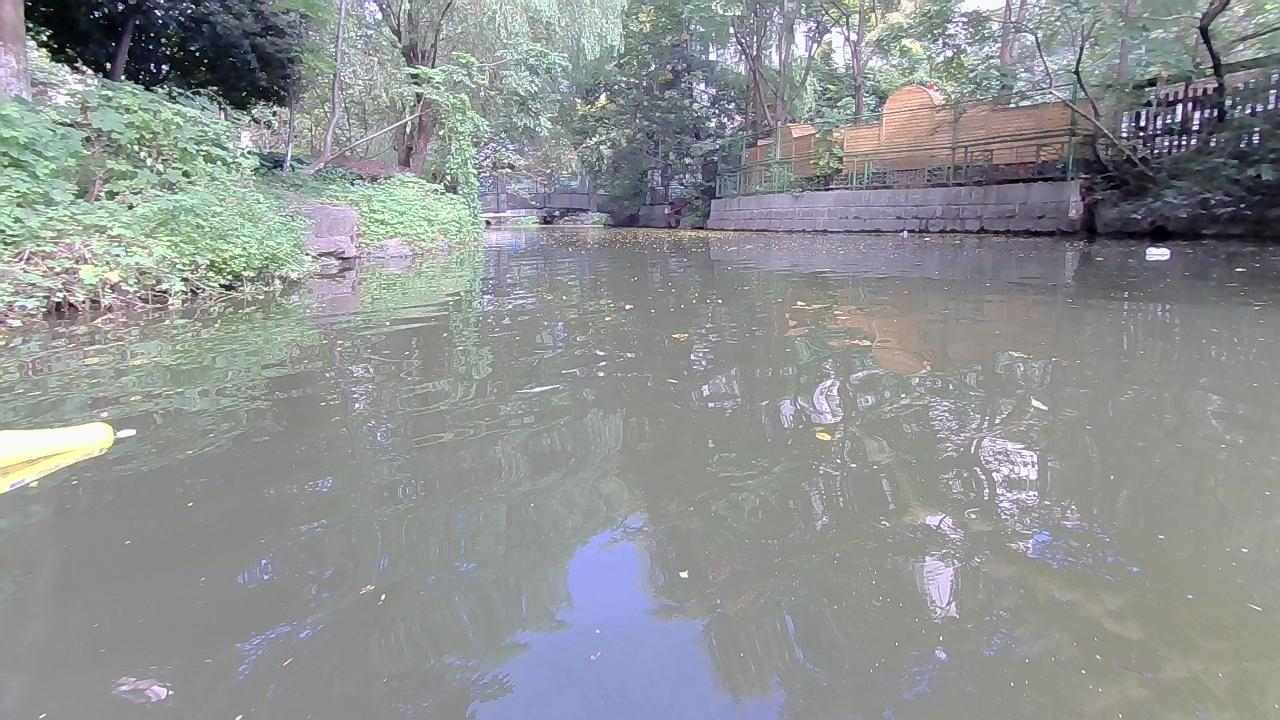bottle: (4, 421, 134, 465), (1139, 244, 1174, 257)
